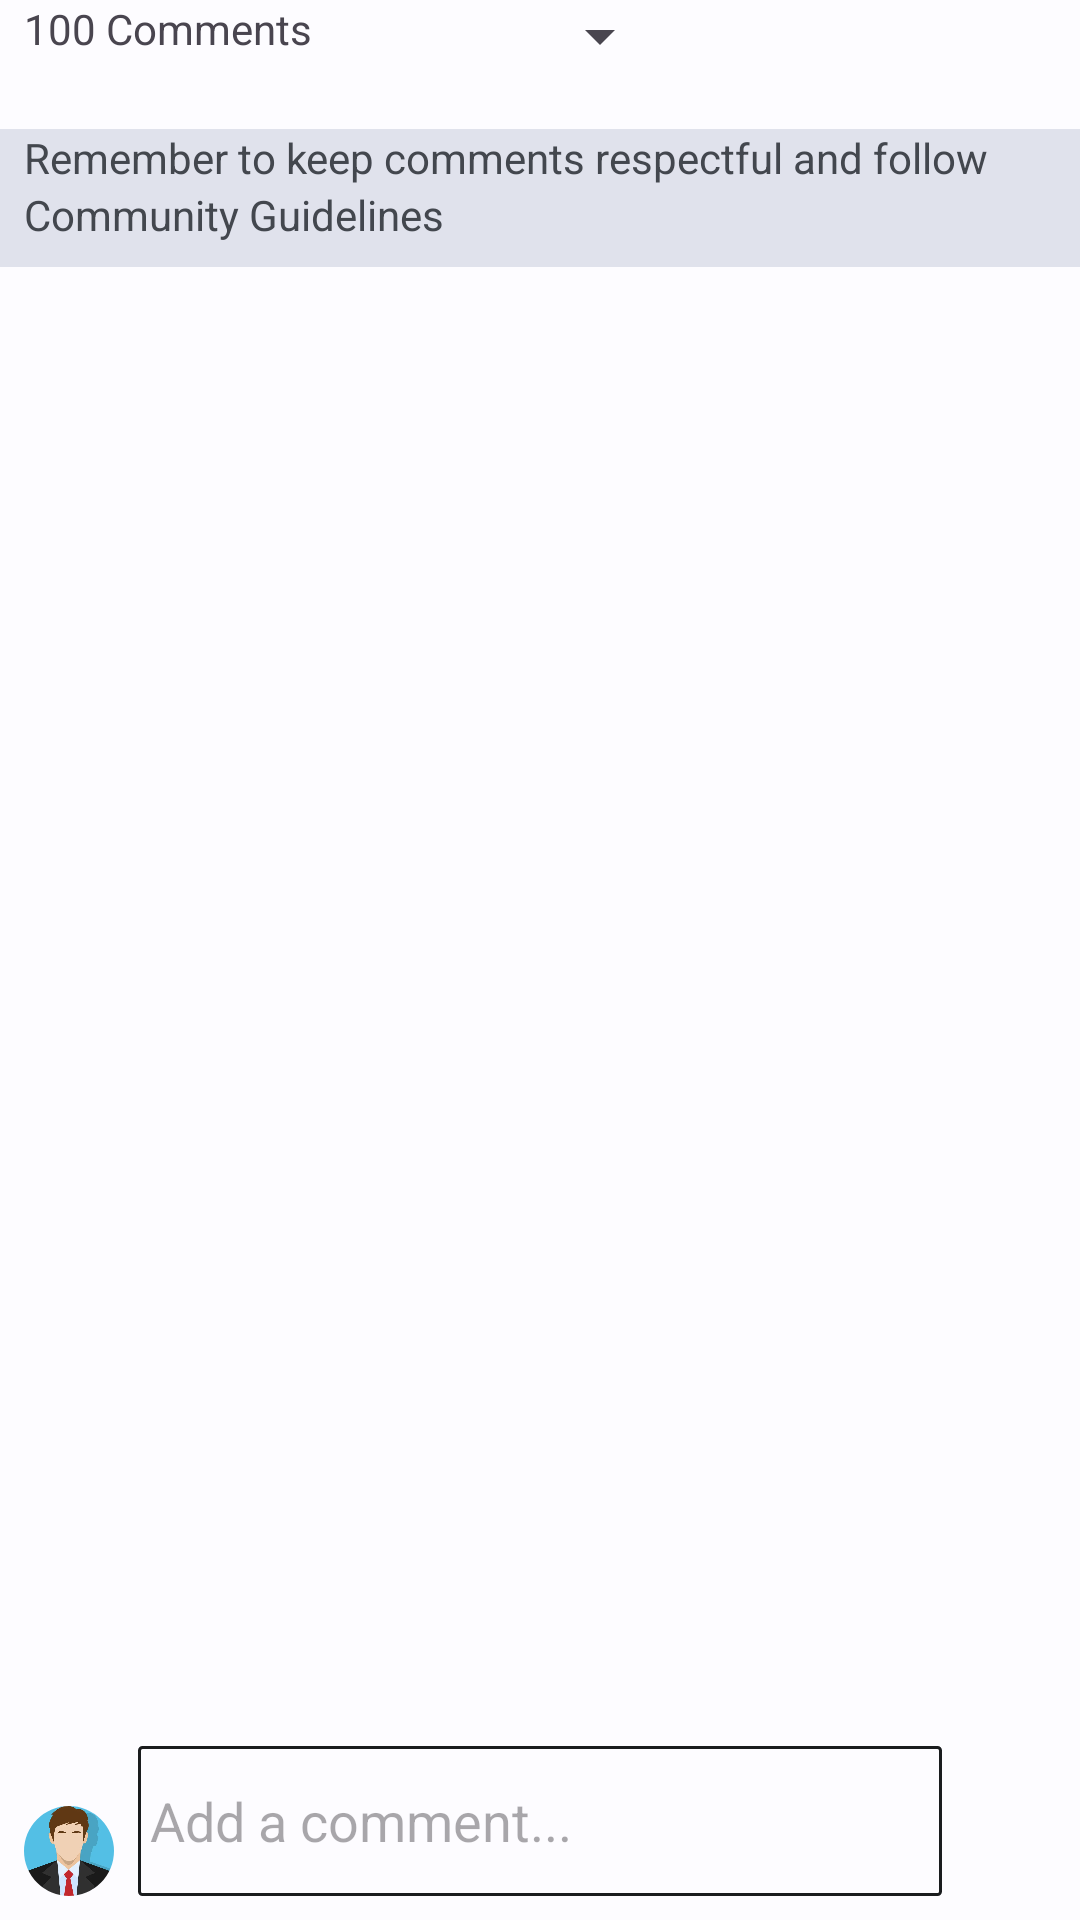

Point at icon controls on the screen. Image size 1080*1920, points as (x,y).
profilepic: (69,1851)
